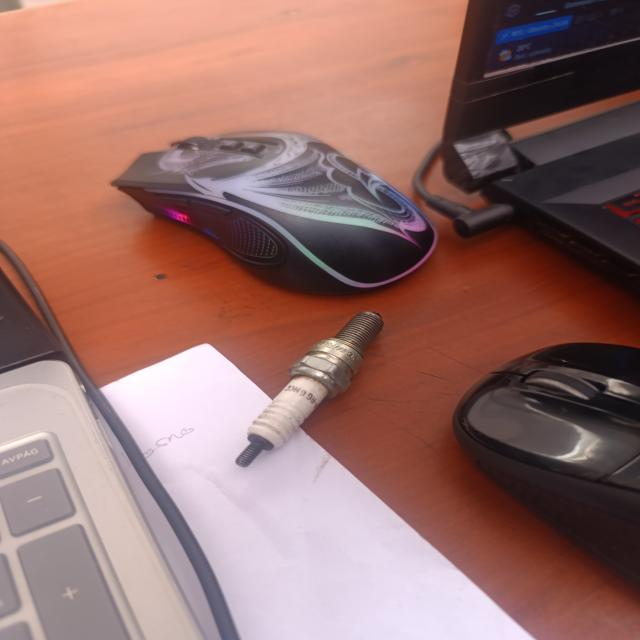Mause: (112, 132, 435, 287)
bujia: (236, 312, 383, 467)
